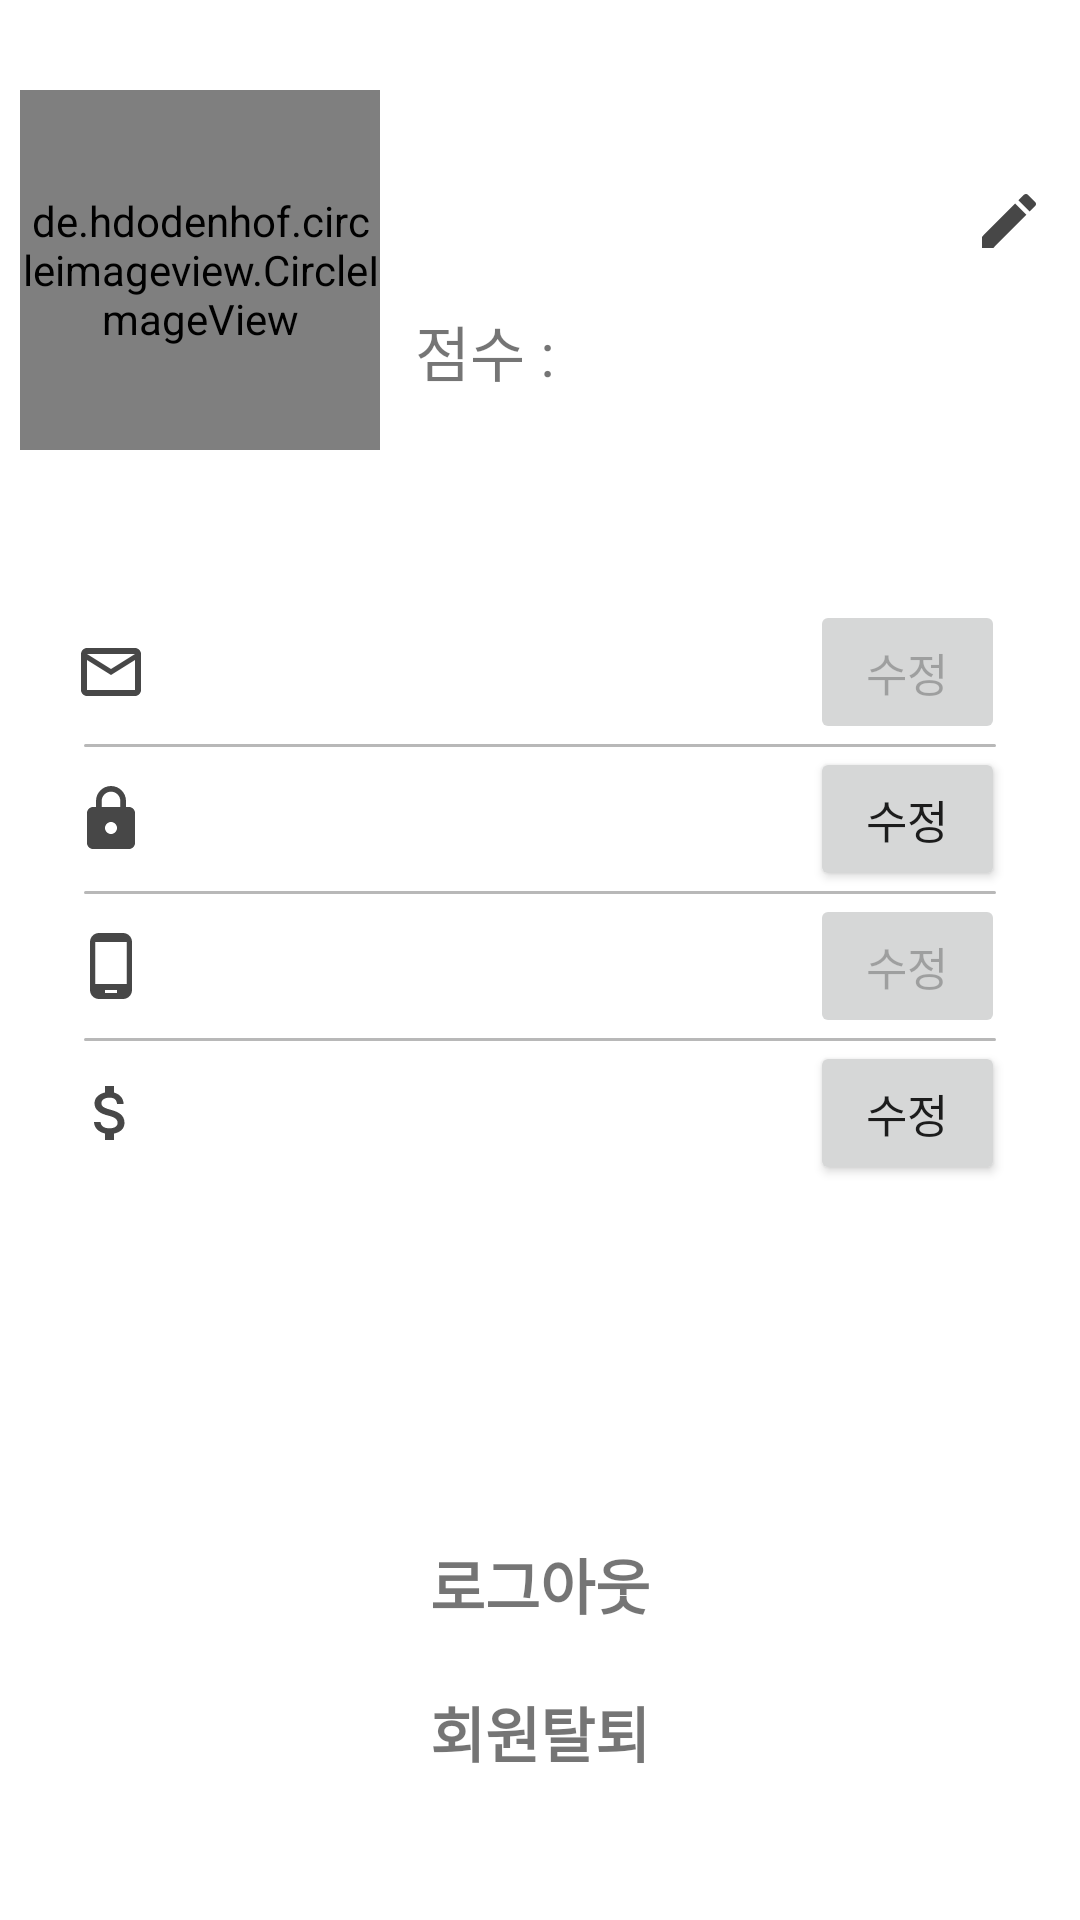

Icons on this 1080 x 1920 Android screen, each with the point to tap as (x,y):
attach money: (109,1113)
edit: (1009,221)
email: (111,672)
lock: (111,817)
phone android: (111,966)
